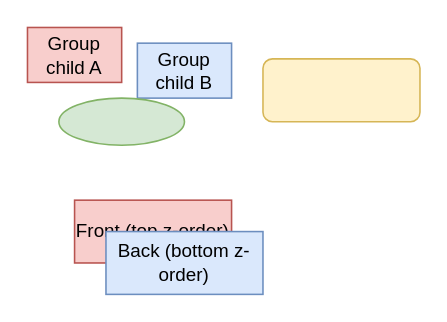
Some shapes in this 447 by 322 pixel diagram are drawn without their labels. Here are the shapes that lost their labels. From the top down, the box of each, then its label:
(261, 57, 420, 122): Outside group
(57, 97, 184, 145): Group child C
